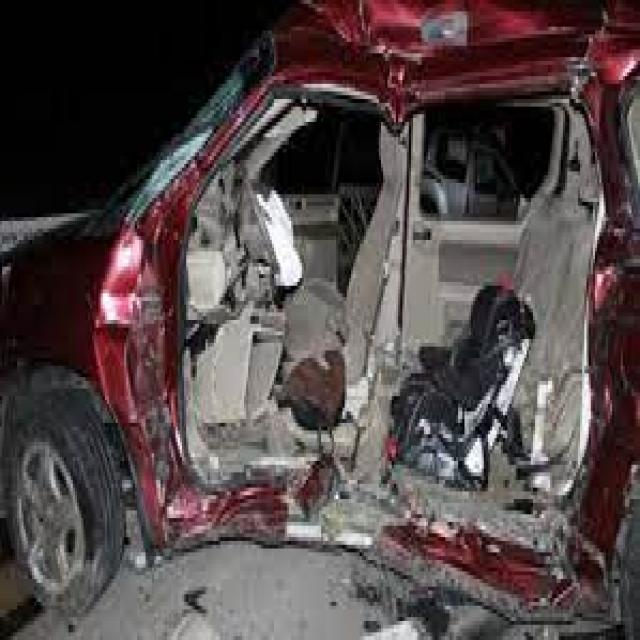severe: (76, 90, 590, 588)
